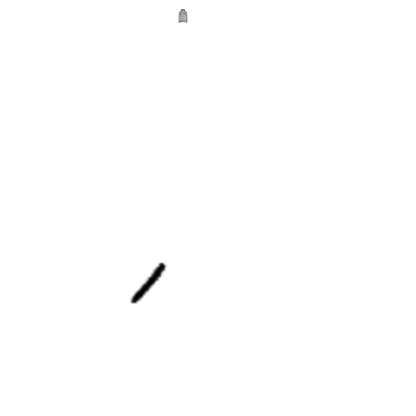1: (119, 255, 175, 311)
Pullover: (176, 9, 190, 23)
